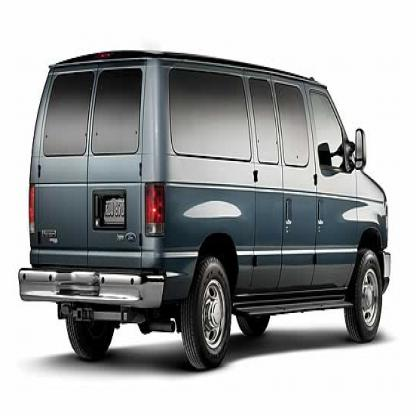Vehicle: (20, 52, 392, 369)
